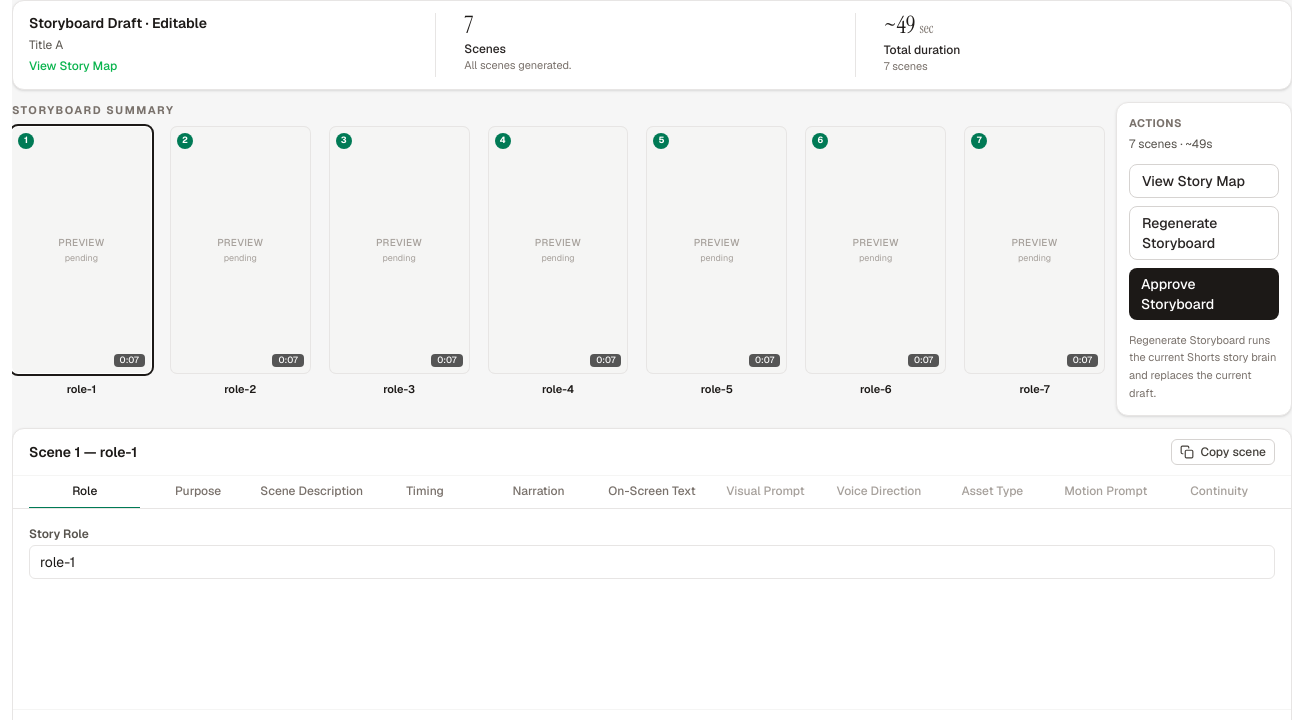
storyboard workspace UI › renders contact sheet and 11 field tabs with one active panel
Expected: the field labelled "Story Role" is shown, left=29, top=545, right=1275, bottom=579
Expected: the button "Copy scene" is enabled, left=1172, top=439, right=1275, bottom=465
Click the button "4 Preview pending 0:07 role-4": coordinates (558, 262) left=489, top=126, right=628, bottom=398
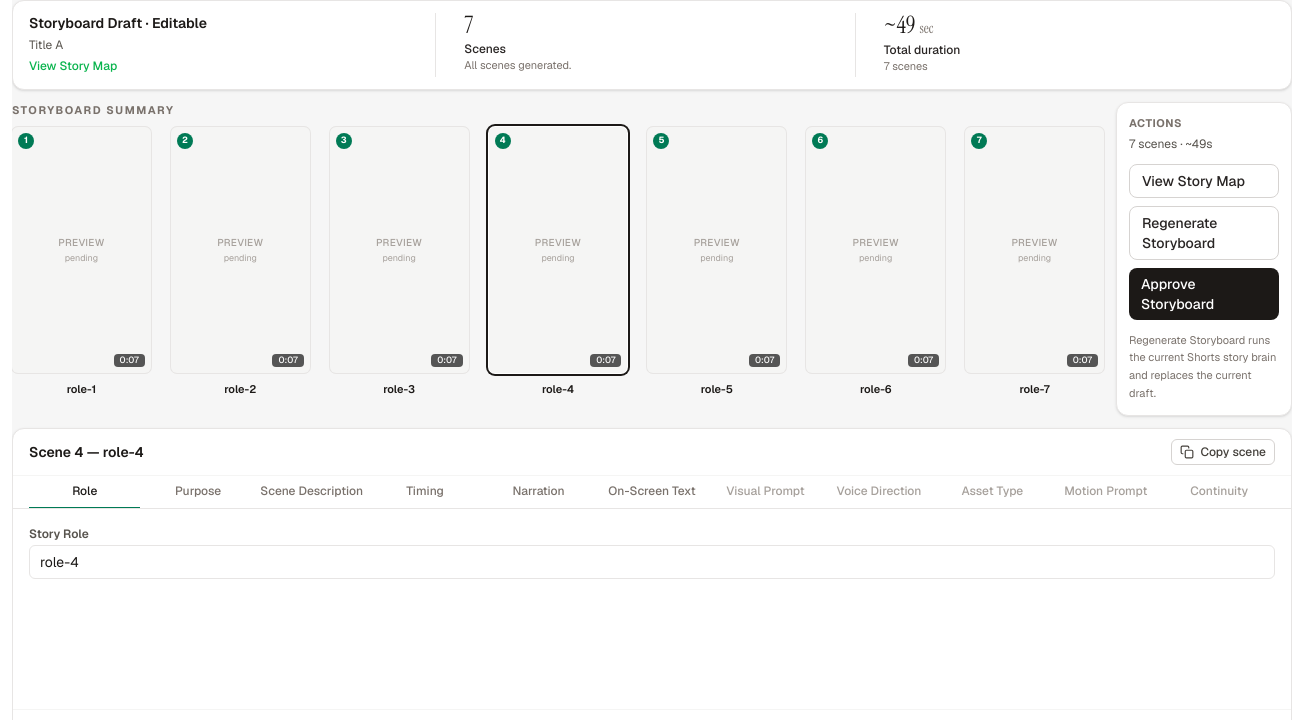
Expected: the field labelled "Story Role" is shown, left=29, top=545, right=1275, bottom=579
Result: the text "Scene 4 — role-4" is shown at left=29, top=442, right=144, bottom=462
